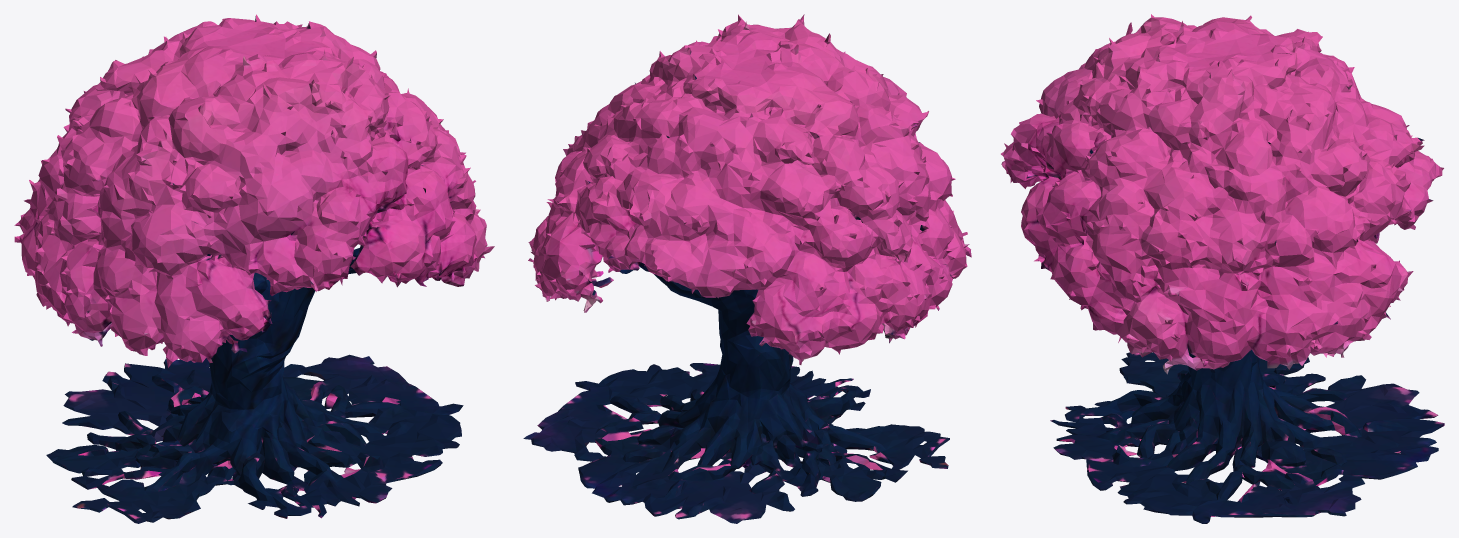
The model's file is yggdrasil-world-tree-merged-2026-04-25t02-07-36-925z-generated-2026-04-25T02-24-40-321Z.high.glb.
3 views of the same model, side by side, from view 1: azimuth 30°, elevation 25°; view 2: azimuth 150°, elevation 25°; view 3: azimuth 270°, elevation 25° (orthographic). The views are drawn at different scales.
Visible parts, largest first — view 1: temp_mesh.ply; view 2: temp_mesh.ply; view 3: temp_mesh.ply.
Boxes of the visible parts, box(x1,y1,x2,y2) form: temp_mesh.ply: box(14, 14, 494, 523); temp_mesh.ply: box(523, 14, 971, 523); temp_mesh.ply: box(1001, 14, 1444, 523).
Bounding box in the file's own units: 1.97 × 1.95 × 1.95.
Materials: 1 (1 with a texture image).
